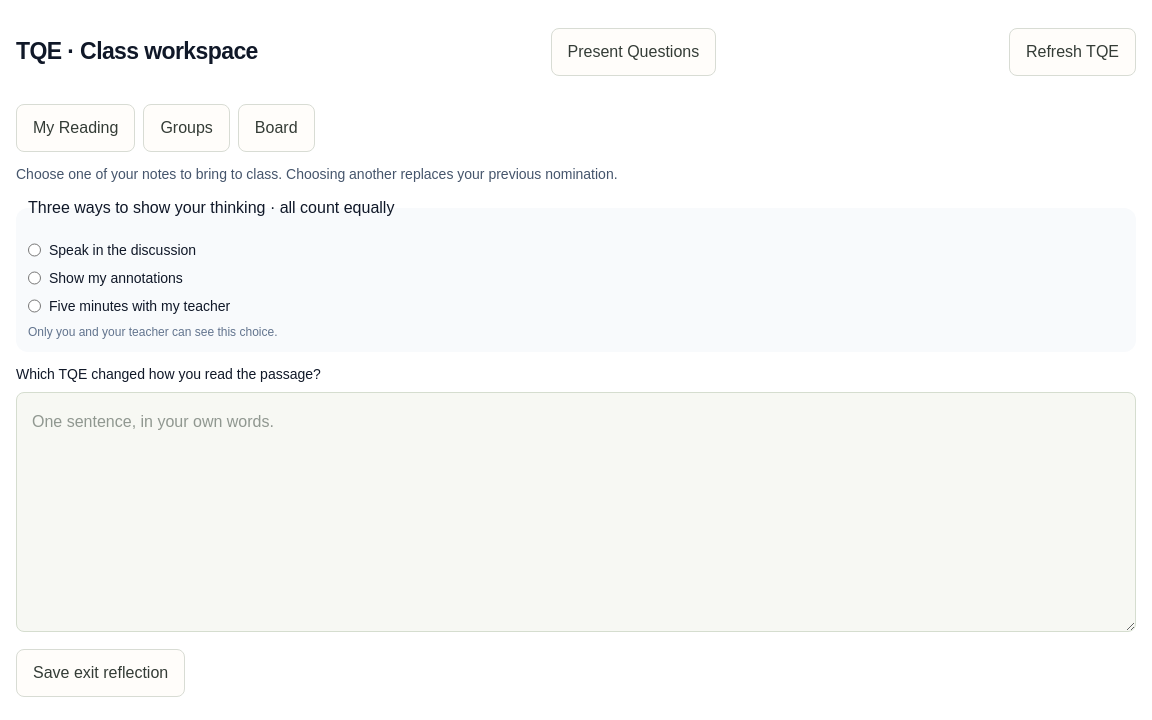
it: TQE workspace › does not offer teacher moderation or participation logs to students
Click the button "groups" at {"x": 187, "y": 128}, box [143,104,230,152]
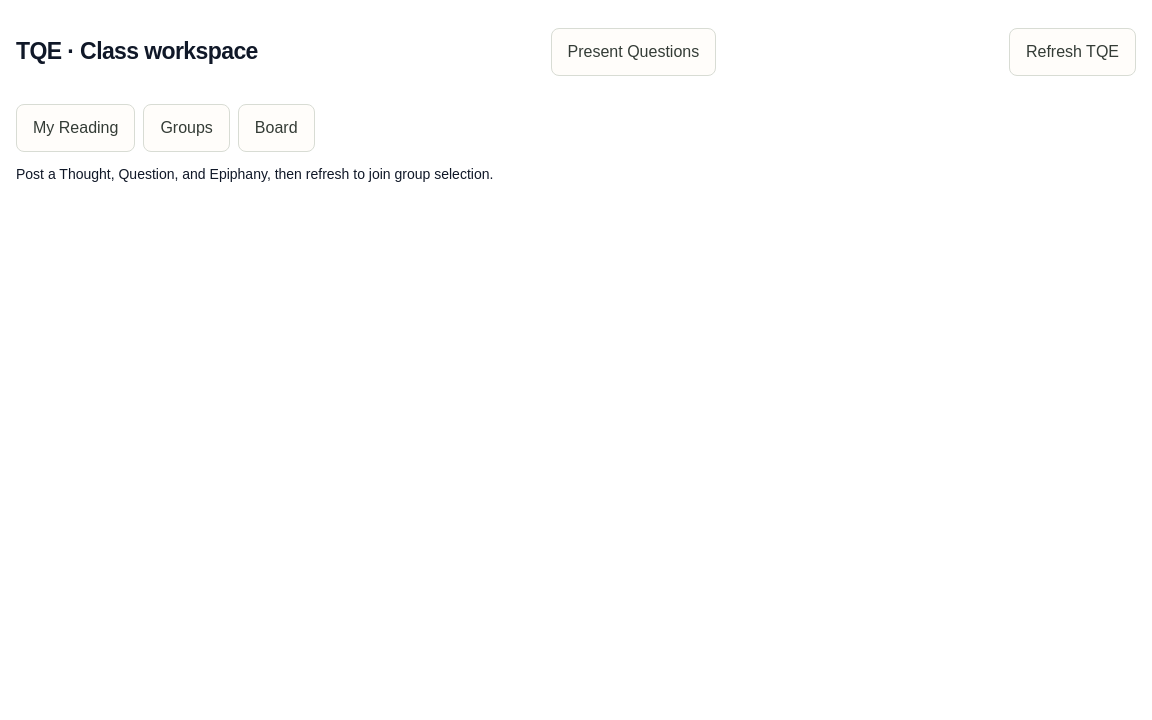
Result: the text "Post a Thought, Question, and Epiphany" is shown at [16,166,493,182]
